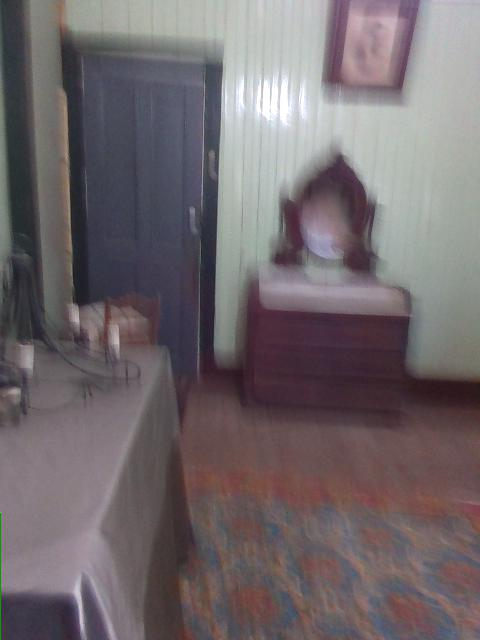closed_door: (61, 45, 218, 383)
